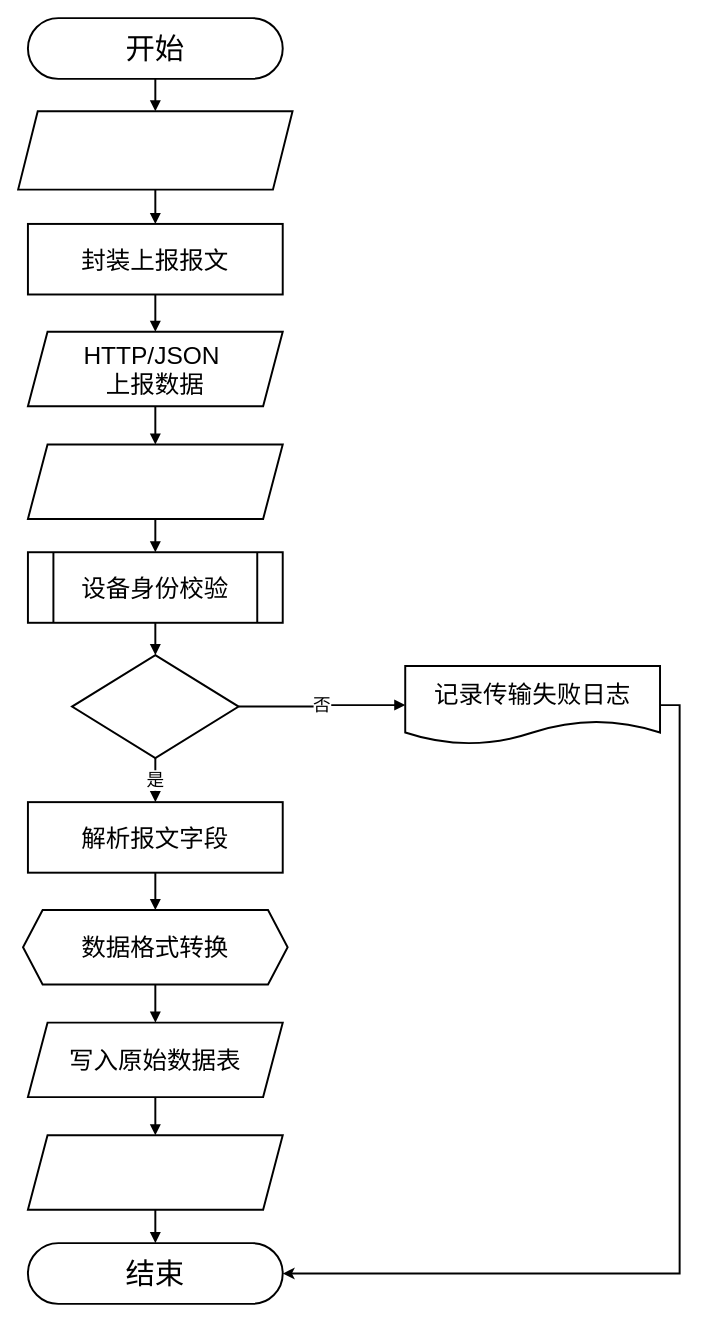
This 705x1321 diagram has some shape labels left out. Each missing label, with the centre of its shape:
写入监测读数表: the point at 154,1172
真实设备/模拟设备 产生读数数据: the point at 155,150
统一接入接口 接收请求: the point at 154,481
身份是否合法: the point at 155,706
